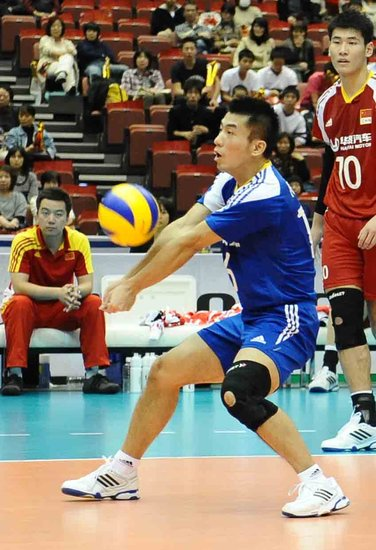ball: (96, 180, 161, 247)
